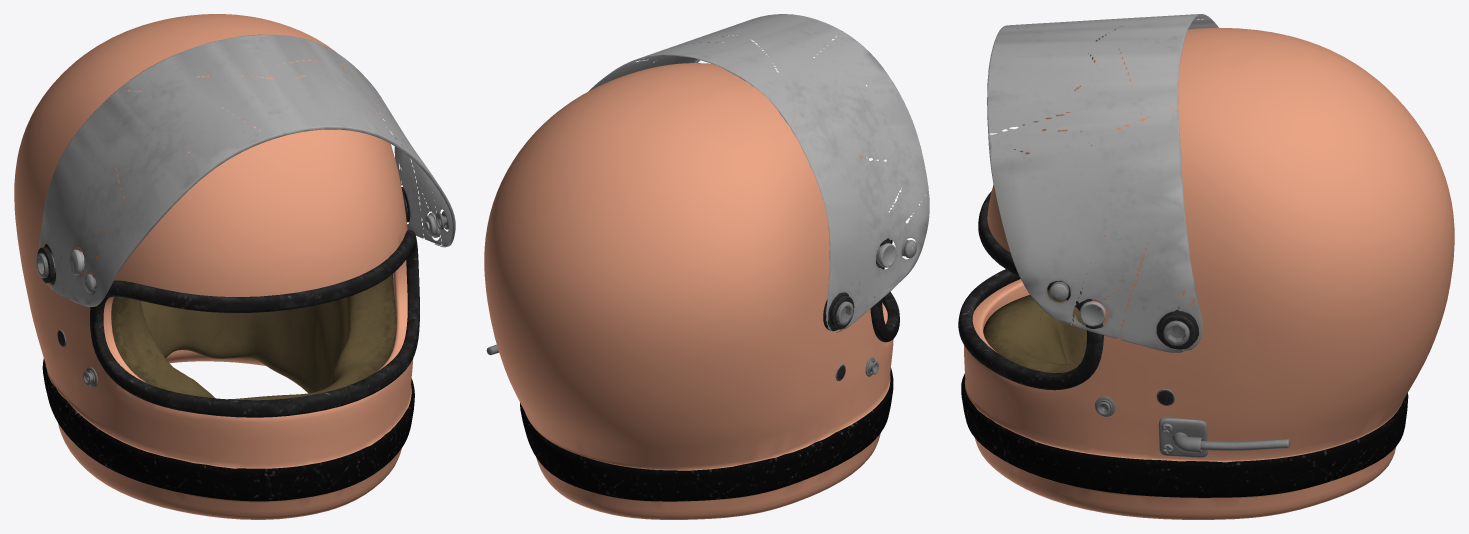
Rendered from Gilles_Villneuve_Helmet.fbx.
3 renders of one model, left to right at view 1: azimuth 30°, elevation 25°; view 2: azimuth 150°, elevation 25°; view 3: azimuth 270°, elevation 25°, orthographic. The views are drawn at different scales.
Visible parts, largest first — view 1: Helmet_Final.005; view 2: Helmet_Final.005; view 3: Helmet_Final.005.
Part boxes in pixels (x1,y1,x2,y2): Helmet_Final.005: (14, 14, 455, 519); Helmet_Final.005: (484, 14, 929, 519); Helmet_Final.005: (958, 14, 1454, 519).
Size of the model in its own units: 25.81 by 27.45 by 29.57.
